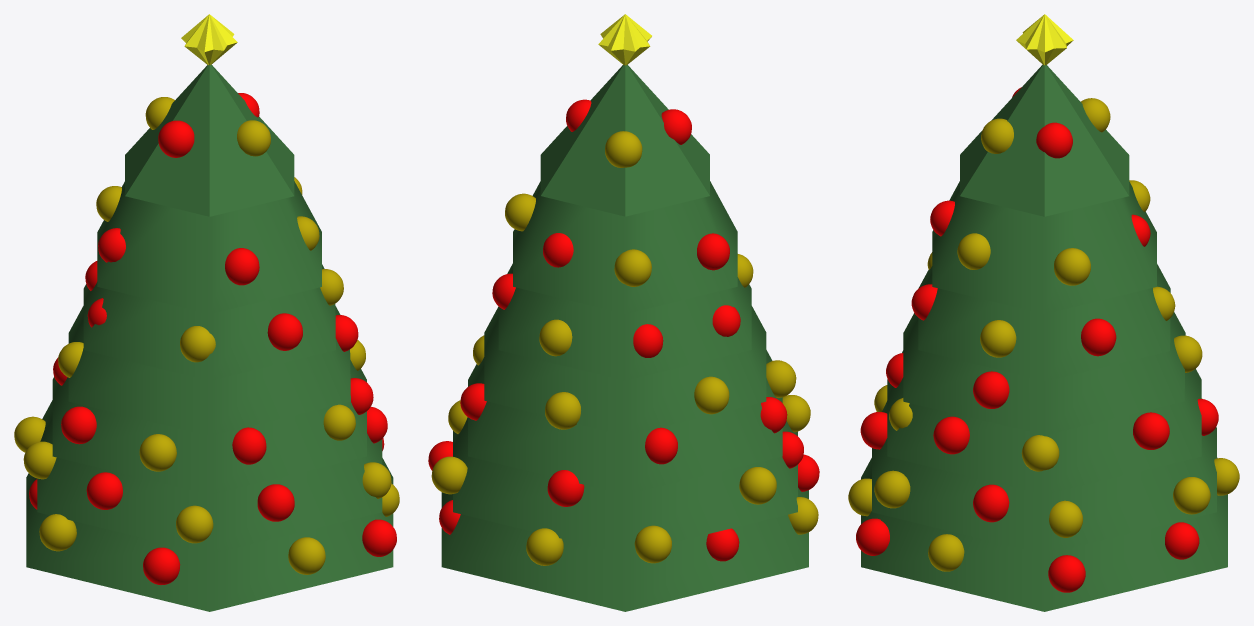
File: xmas_tree.fbx
3 views of the same model, side by side, from view 1: azimuth 30°, elevation 25°; view 2: azimuth 150°, elevation 25°; view 3: azimuth 270°, elevation 25° (orthographic).
Parts seen in each view (by area): view 1: pCone1, pSphere38, pSphere31, pSphere34, pSphere32, pSphere33, pSphere16, pSphere37, pSphere21, pSphere15, pSphere43, pSphere35 (+19 smaller); view 2: pCone1, pSphere13, pSphere7, pSphere17, pSphere20, pSphere2, pSphere26, pSphere10, pSphere6, pSphere4, pSphere18, pSphere8 (+18 smaller); view 3: pCone1, pSphere6, pSphere25, pSphere24, pSphere5, pSphere40, pSphere27, pSphere29, pSphere28, pSphere42, pSphere30, pSphere36 (+18 smaller).
Boxes of the visible parts, box(x1,y1,x2,y2) form: pCone1: box(26, 64, 393, 611); pSphere38: box(139, 434, 176, 471); pSphere31: box(257, 484, 294, 521); pSphere34: box(288, 537, 325, 574); pSphere32: box(176, 505, 213, 543); pSphere33: box(143, 547, 180, 584); pSphere16: box(39, 514, 76, 551); pSphere37: box(86, 472, 122, 509); pSphere21: box(158, 120, 194, 157); pSphere15: box(61, 406, 96, 444); pSphere43: box(267, 313, 302, 350); pSphere35: box(362, 519, 396, 556); pCone1: box(441, 65, 808, 611); pSphere13: box(739, 467, 776, 504); pSphere7: box(634, 525, 671, 563); pSphere17: box(614, 249, 651, 286); pSphere20: box(605, 131, 642, 167); pSphere2: box(526, 528, 563, 565); pSphere26: box(545, 392, 580, 429); pSphere10: box(694, 376, 729, 414); pSphere6: box(431, 456, 467, 494); pSphere4: box(547, 470, 584, 506); pSphere18: box(697, 233, 729, 270); pSphere8: box(645, 427, 677, 464); pCone1: box(861, 64, 1227, 611); pSphere6: box(1173, 477, 1210, 514); pSphere25: box(1048, 555, 1085, 592); pSphere24: box(1054, 248, 1090, 285); pSphere5: box(1133, 412, 1169, 449); pSphere40: box(933, 416, 969, 454); pSphere27: box(1021, 435, 1059, 471); pSphere29: box(973, 371, 1009, 408); pSphere28: box(973, 484, 1009, 522); pSphere42: box(980, 320, 1016, 357); pSphere30: box(874, 470, 910, 508); pSphere36: box(928, 534, 964, 571).
Bounding box in the file's own units: 2 × 2.97 × 1.85.
